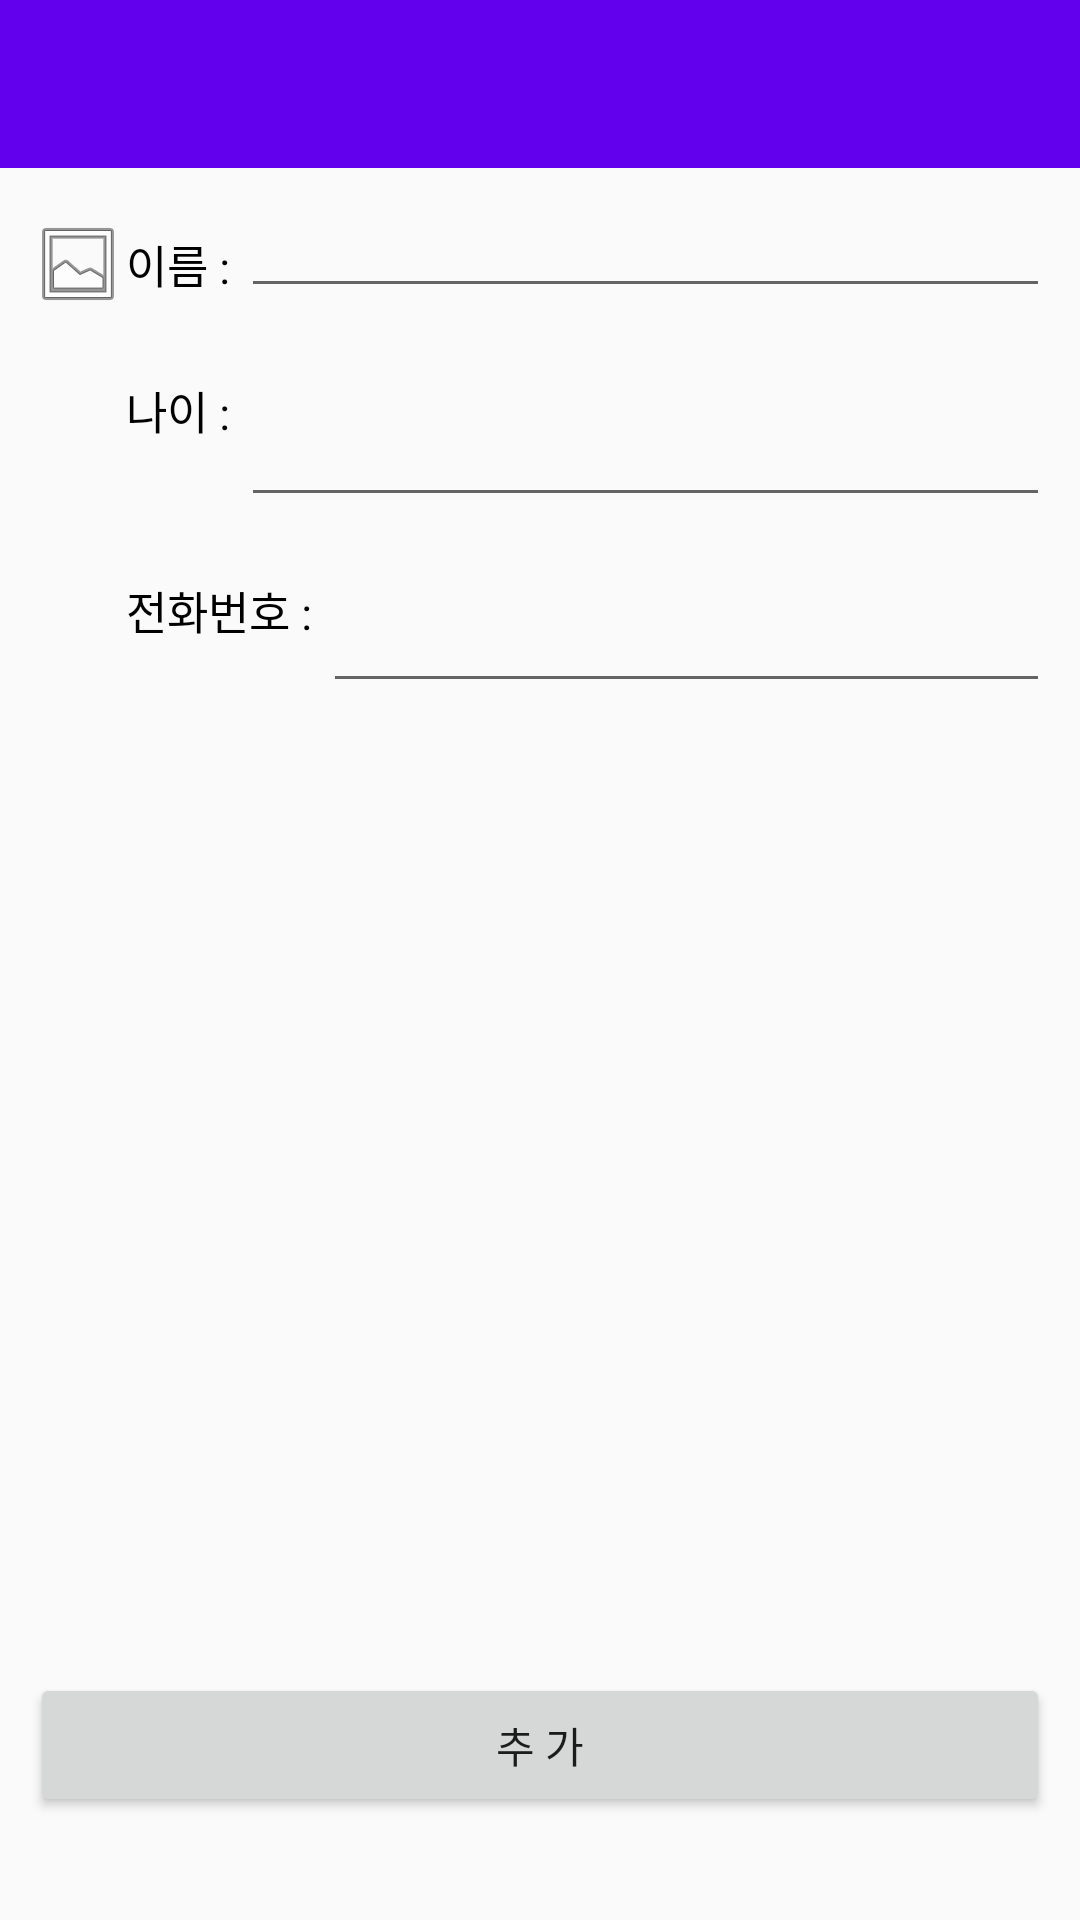

Where to tap for icons on this 1080×1920 app screen, as (x=x, y=y):
gallery: (x=78, y=264)
